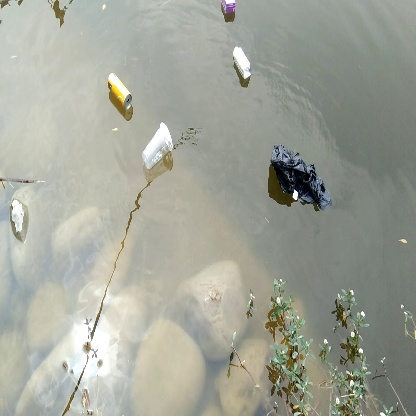bottle: (140, 122, 175, 174), (105, 71, 134, 111)
milk-box: (231, 42, 257, 83)
plastic-bag: (270, 141, 334, 211)
